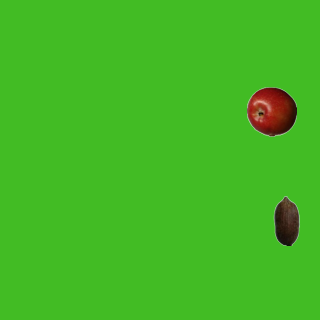Apple Braeburn: (246, 86, 296, 136)
Nut Pecan: (261, 195, 311, 245)
